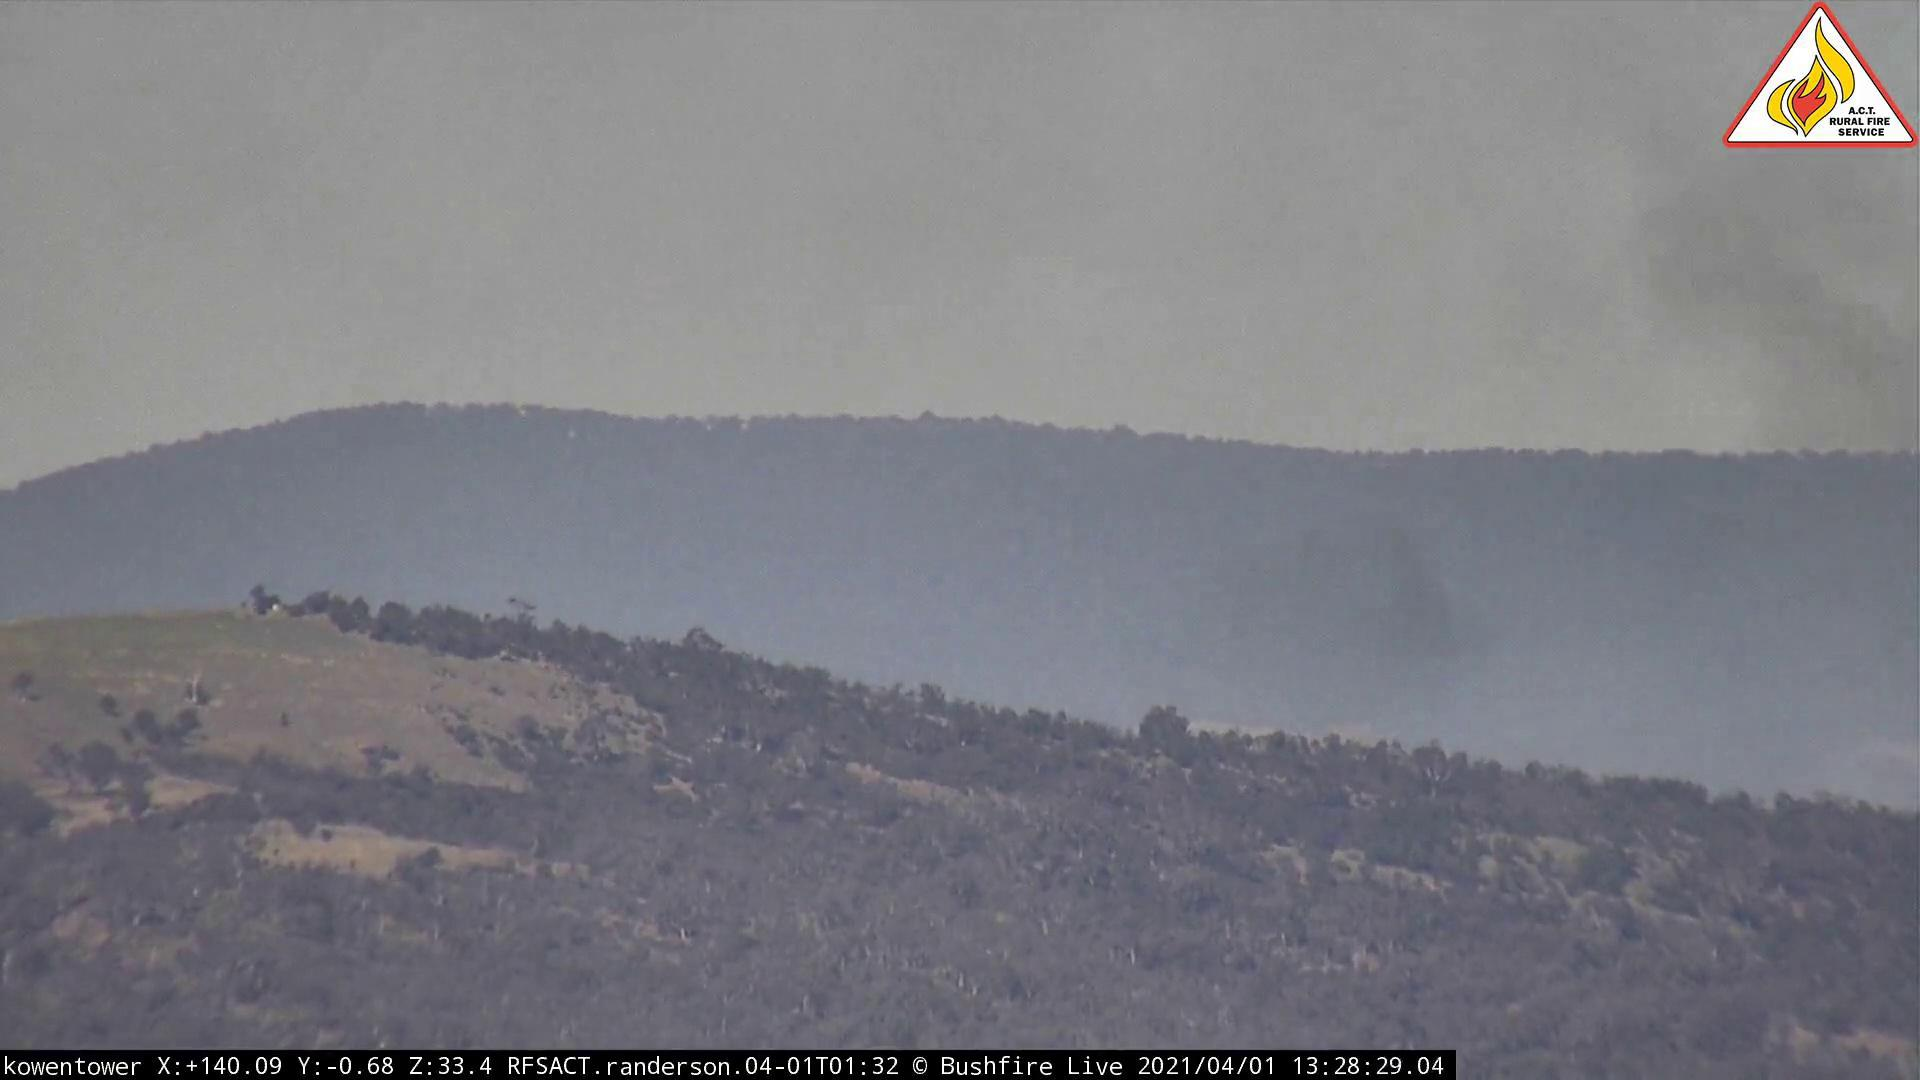Smoke: (1320, 169, 1920, 758)
